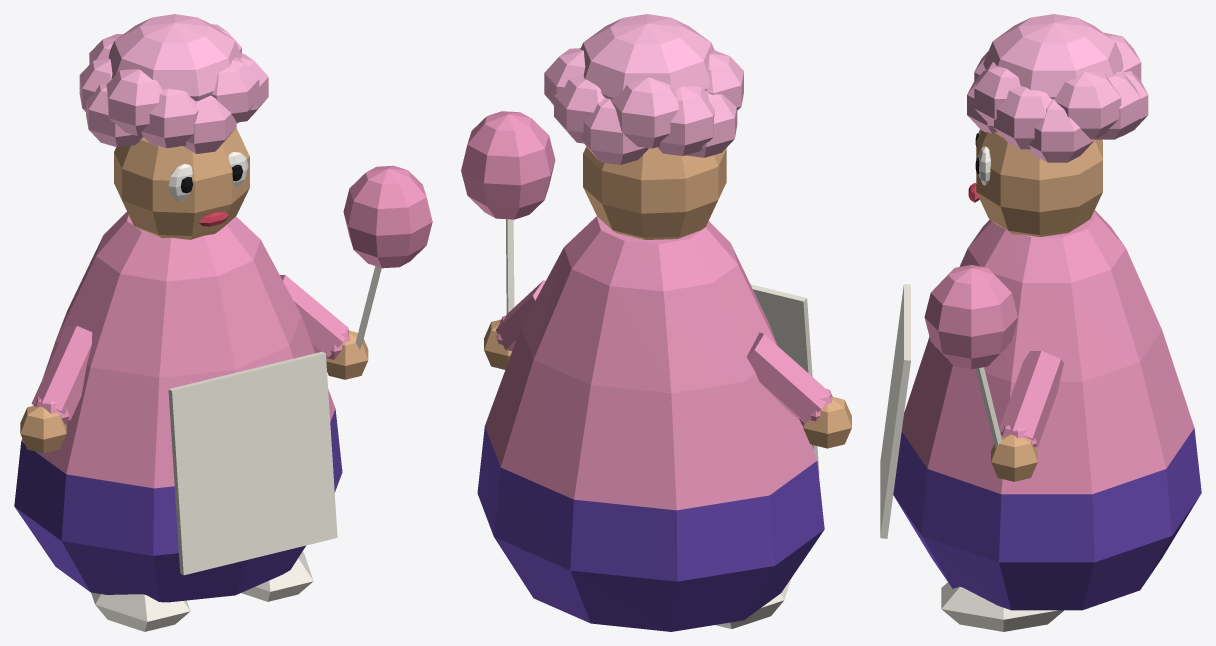
Rendered from npc_nube.glb.
3 views of the same model, side by side, from view 1: azimuth 30°, elevation 25°; view 2: azimuth 150°, elevation 25°; view 3: azimuth 270°, elevation 25° (orthographic). The views are drawn at different scales.
Visible parts, largest first — view 1: body_candy_pink, body_fair_white, body_nube_skirt, hair_nube_hair, head_skin_trigo, candy_candy_pink, arms_candy_pink, legs_fair_white, arms_skin_trigo, face_white, candy_fair_white; view 2: body_candy_pink, body_nube_skirt, hair_nube_hair, head_skin_trigo, candy_candy_pink, arms_candy_pink, body_fair_white, arms_skin_trigo, candy_fair_white, legs_fair_white; view 3: body_candy_pink, body_nube_skirt, hair_nube_hair, head_skin_trigo, candy_candy_pink, arms_candy_pink, body_fair_white, legs_fair_white, arms_skin_trigo, candy_fair_white.
Boxes of the visible parts, left/top/right/bottom form: body_candy_pink: left=21, top=212, right=335, bottom=488; body_fair_white: left=168, top=351, right=337, bottom=575; body_nube_skirt: left=14, top=409, right=342, bottom=602; hair_nube_hair: left=79, top=14, right=268, bottom=153; head_skin_trigo: left=114, top=128, right=249, bottom=239; candy_candy_pink: left=343, top=165, right=432, bottom=268; arms_candy_pink: left=31, top=275, right=350, bottom=424; legs_fair_white: left=91, top=551, right=313, bottom=631; arms_skin_trigo: left=20, top=331, right=368, bottom=453; face_white: left=168, top=152, right=248, bottom=200; candy_fair_white: left=355, top=266, right=381, bottom=349; body_candy_pink: left=485, top=216, right=817, bottom=510; body_nube_skirt: left=477, top=426, right=824, bottom=631; hair_nube_hair: left=544, top=14, right=743, bottom=164; head_skin_trigo: left=583, top=146, right=726, bottom=239; candy_candy_pink: left=461, top=111, right=555, bottom=219; arms_candy_pink: left=496, top=280, right=832, bottom=425; body_fair_white: left=750, top=284, right=819, bottom=474; arms_skin_trigo: left=484, top=319, right=851, bottom=448; candy_fair_white: left=506, top=219, right=514, bottom=313; legs_fair_white: left=715, top=578, right=791, bottom=628; body_candy_pink: left=902, top=210, right=1194, bottom=494; body_nube_skirt: left=893, top=428, right=1201, bottom=610; hair_nube_hair: left=967, top=14, right=1148, bottom=162; head_skin_trigo: left=976, top=130, right=1102, bottom=236; candy_candy_pink: left=924, top=265, right=1017, bottom=369; arms_candy_pink: left=999, top=351, right=1063, bottom=447; body_fair_white: left=880, top=284, right=910, bottom=538; legs_fair_white: left=941, top=582, right=1063, bottom=631; arms_skin_trigo: left=991, top=434, right=1037, bottom=481; candy_fair_white: left=975, top=367, right=1001, bottom=447.
Size of the model in its own units: 1.25 by 1.75 by 0.8928.
